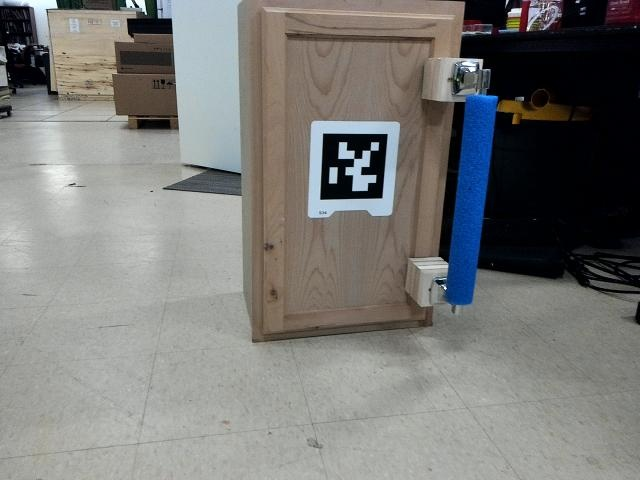noodle_handle: (438, 80, 501, 316)
